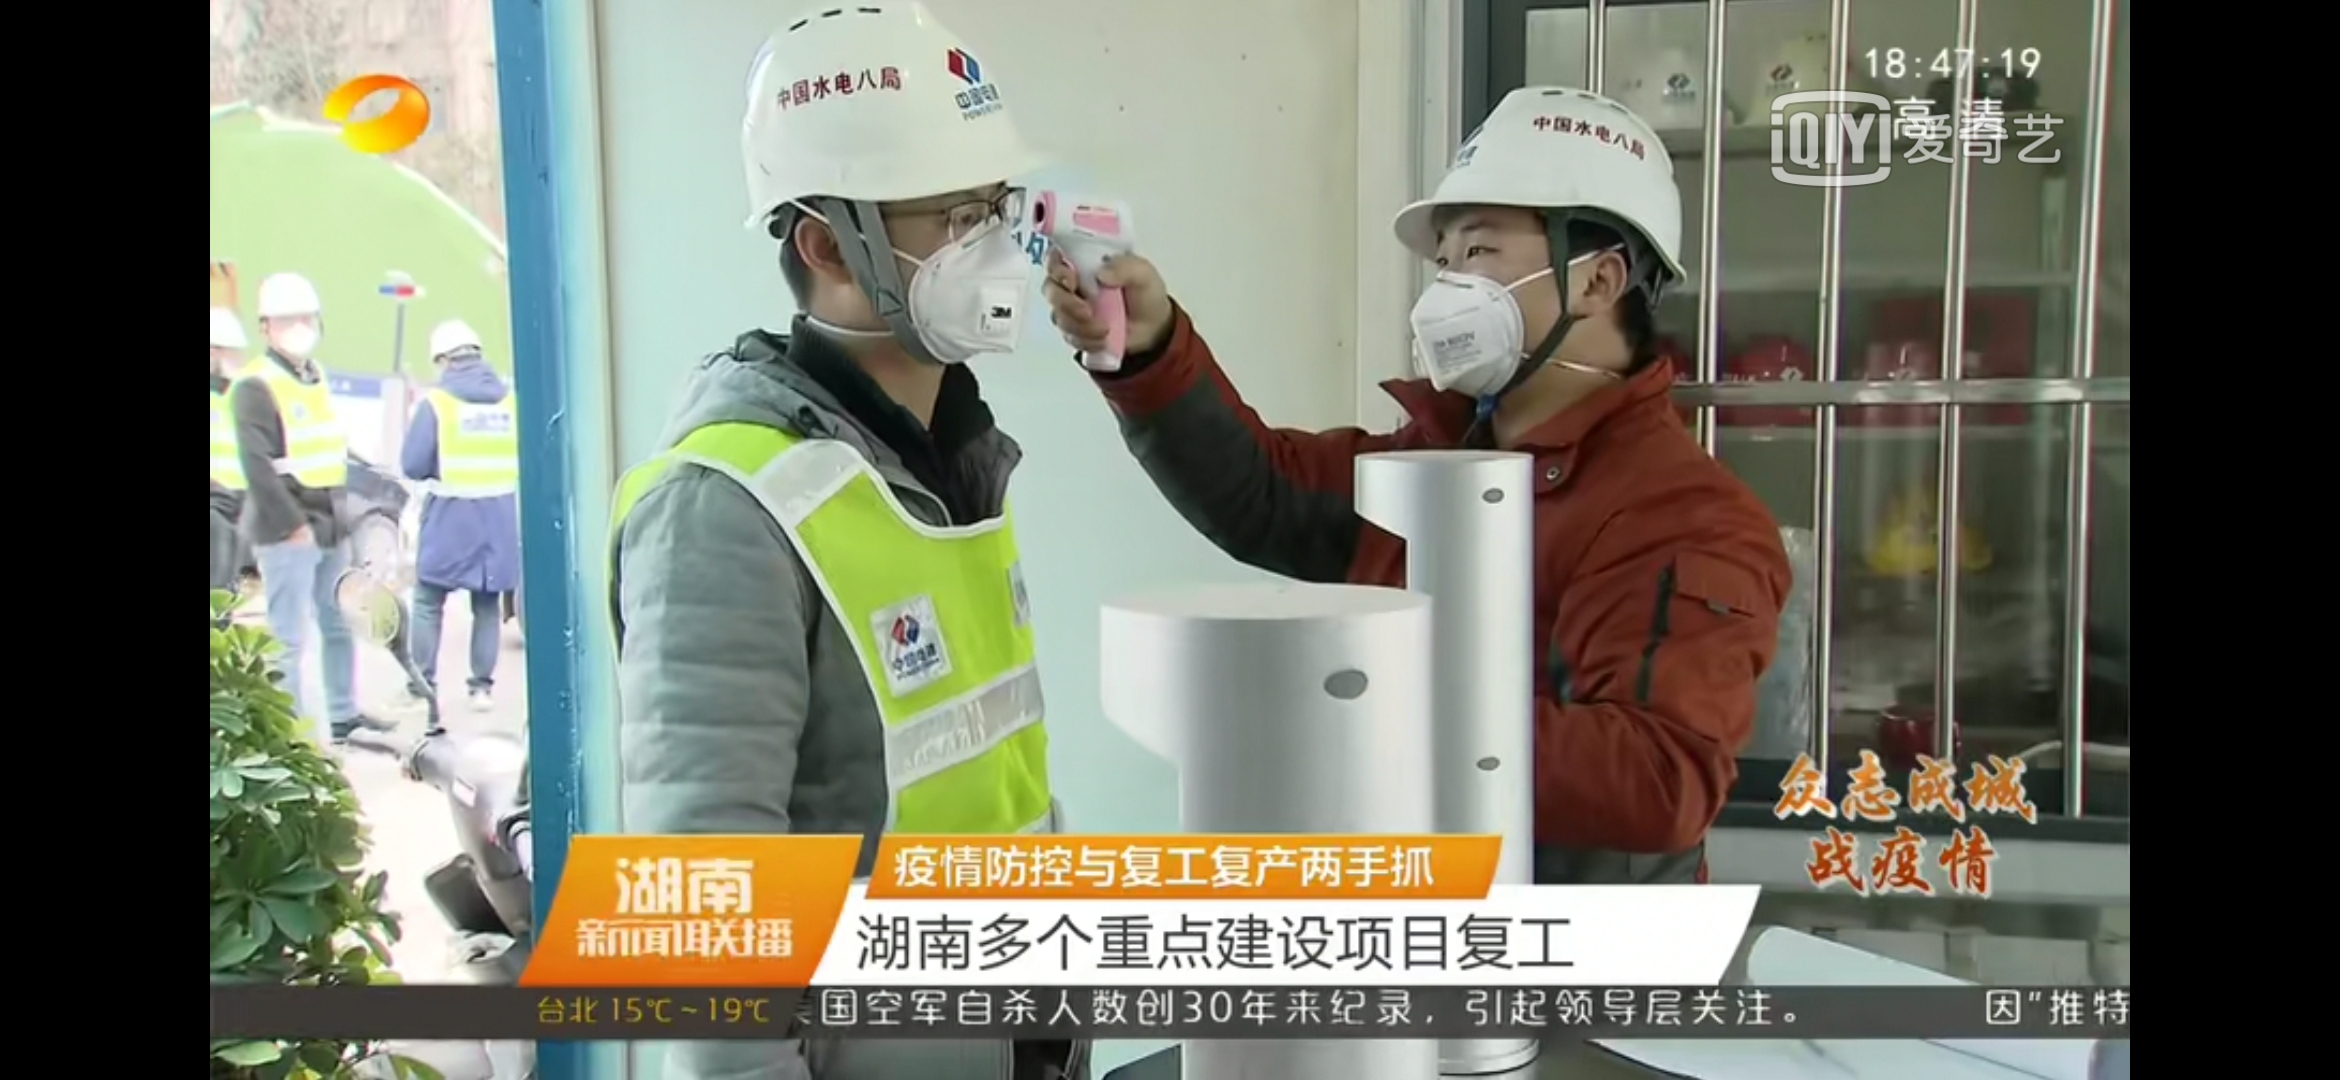correctlyWear: (775, 191, 1051, 371), (1407, 221, 1639, 410), (263, 298, 318, 358)
